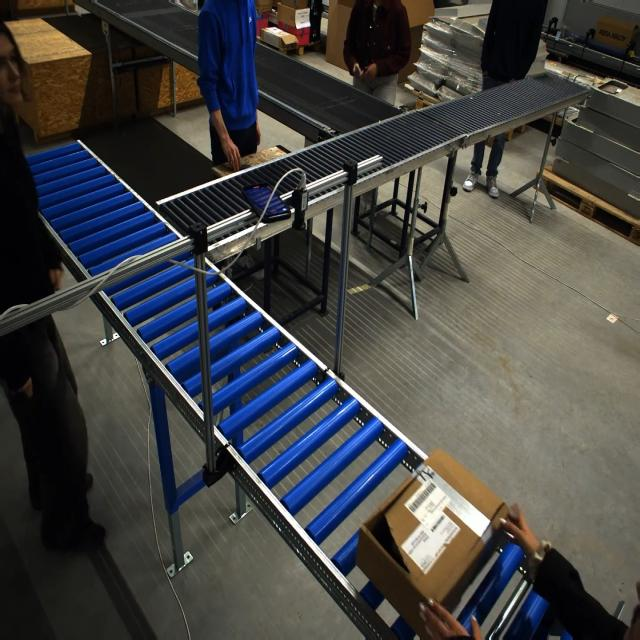box: (357, 448, 507, 635), (594, 15, 638, 51)
